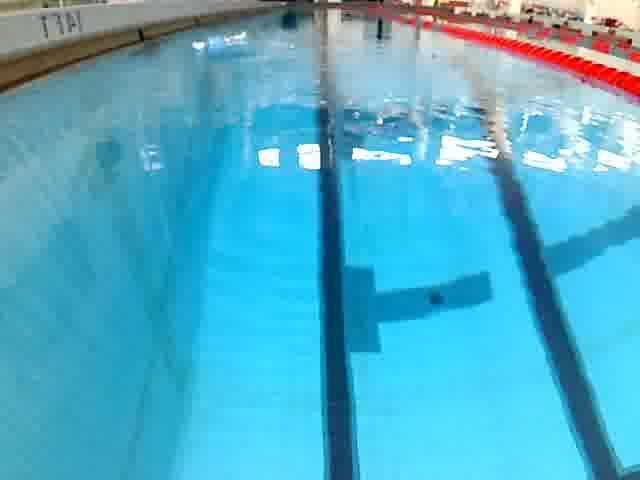Bottle: (186, 27, 257, 60)
